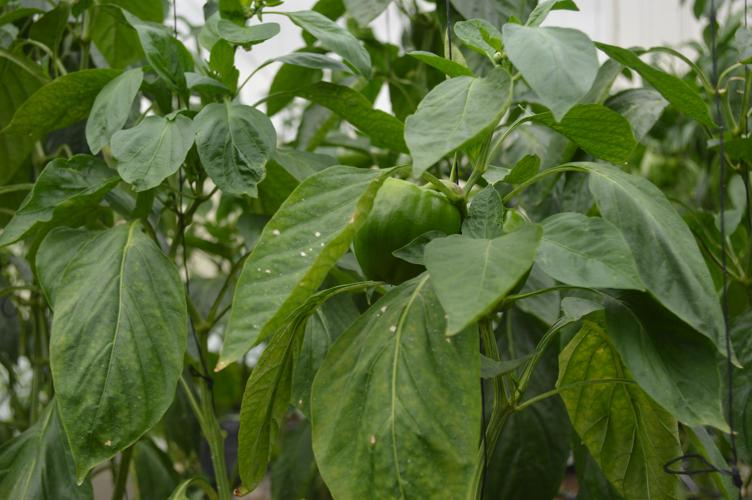BellPepper: (329, 154, 477, 292)
